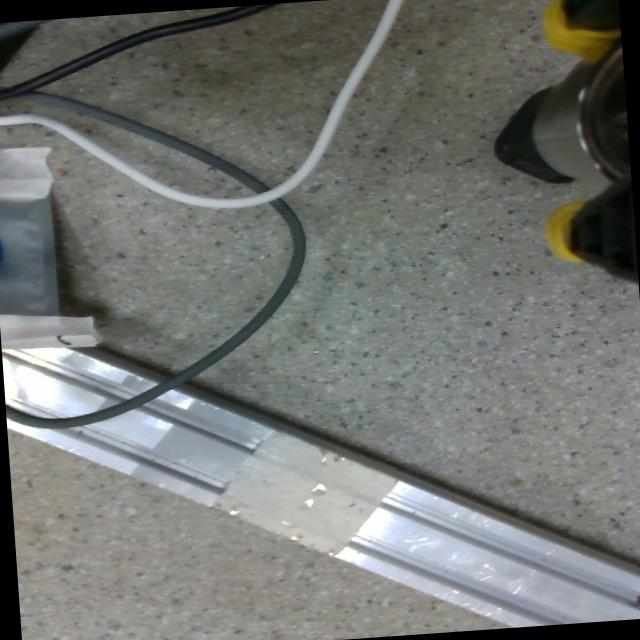cell: (491, 86, 578, 187)
